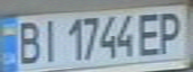1: (63, 14, 84, 61)
4: (115, 10, 139, 58), (100, 11, 121, 60)
7: (78, 12, 100, 61)
B: (12, 17, 45, 65)
E: (136, 9, 166, 57)
I: (36, 16, 60, 63)
P: (154, 8, 190, 55)
